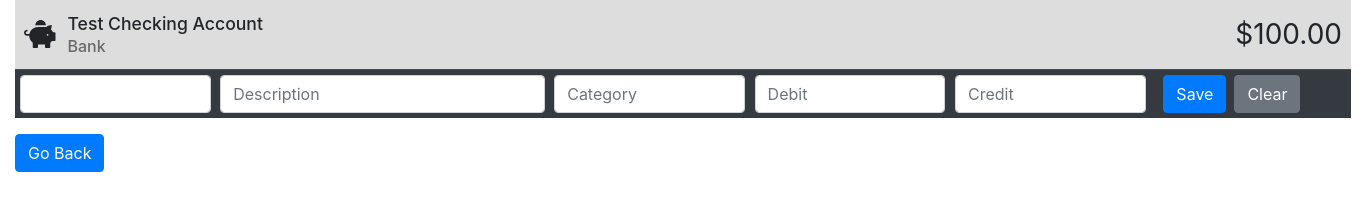
Test case: PagesAccountsShow › Add a transaction › Requires a description
This screenshot has width=1366, height=212.
Click the button "Save": [1195, 94] box [1163,75,1226,113]
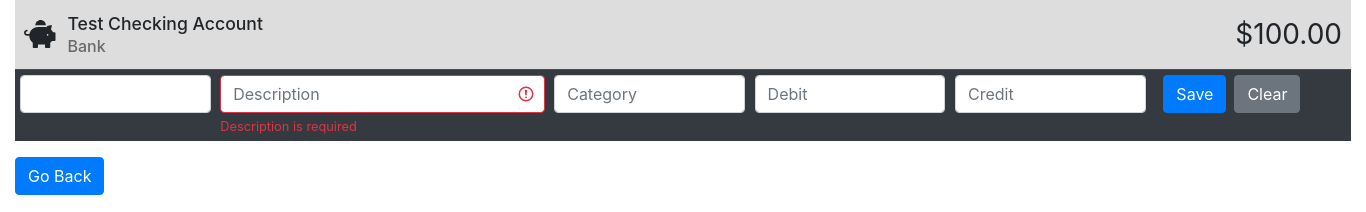
Expected: the text with test id "description-error" reads "Description is required", [220,119,357,134]
